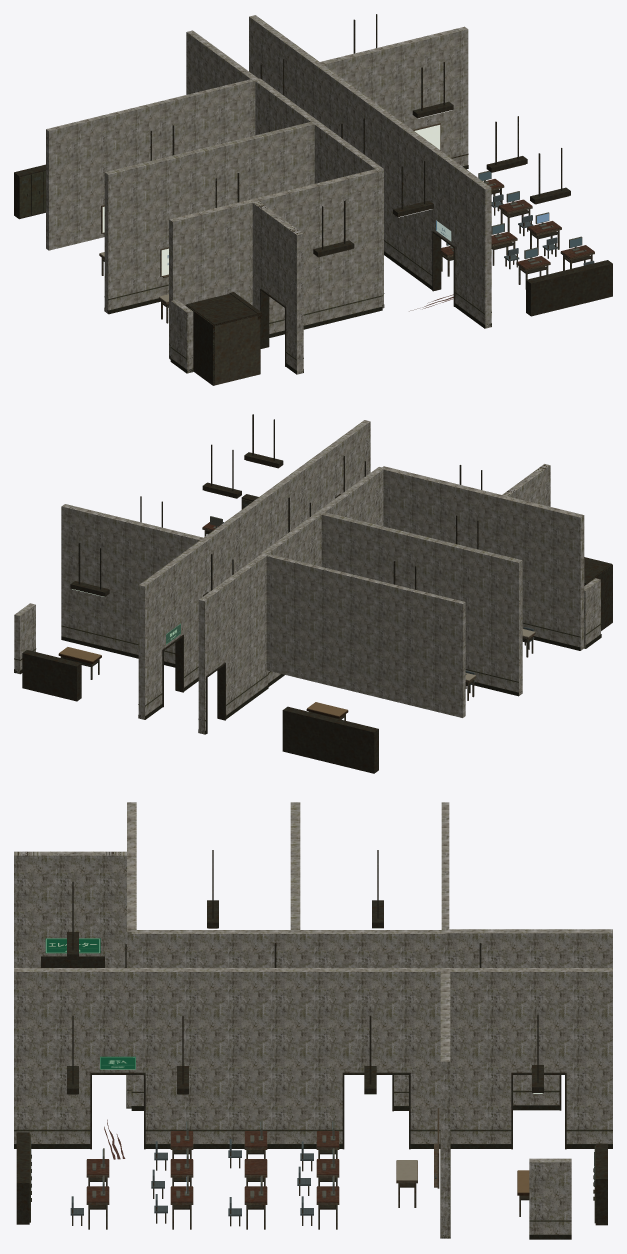
File: school_floor3_layout.glb
3 views of the same model, one above another, from view 1: azimuth 30°, elevation 25°; view 2: azimuth 150°, elevation 25°; view 3: azimuth 270°, elevation 25° (orthographic). The views are drawn at different scales.
Visible parts, largest first — view 1: Wall z 7.25 -12.28 / Plaster, Wall z 0.7 -12.28 / Plaster, Wall z -5.3 -12.28 / Plaster, Wall z -5.3 3.6 / Plaster, Wall x 3.6 -1.19 / Plaster, Wall x 3.6 8.91 / Plaster, Details 1 1 / Frame, Details -2 1 / Frame, Details -2 1 / Steel, Wall x -7.42 10.875 / Plaster, Wall x 3.6 -7.94 / Plaster, Wall x -7.42 8.325 / Plaster (+22 smaller); view 2: Wall z -5.3 -12.28 / Plaster, Wall z 7.25 -12.28 / Plaster, Wall z 0.7 -12.28 / Plaster, Wall z -5.3 3.6 / Plaster, Wall x -0.08 -9.87 / Plaster, Details -1 -2 / Frame, Wall x 3.6 -1.19 / Plaster, Wall x 3.6 -7.94 / Plaster, Wall x 3.6 -12 / Plaster, Details 1 -2 / Frame, Wall x 3.6 -10.14 / Plaster, Wall x 3.6 8.91 / Plaster (+14 smaller); view 3: Wall x 3.6 -1.19 / Plaster, Wall x 3.6 -7.94 / Plaster, Wall x 3.6 8.91 / Plaster, Wall x 3.6 -12 / Plaster, Wall x 3.6 -3.91 / Plaster, Wall x -7.42 8.325 / Plaster, Wall x 3.6 -10.14 / Plaster, Wall x -0.08 -9.87 / Plaster, Wall x 3.6 6.69 / Plaster, Wall x 0 -1.085 / Plaster, Wall x 12.19 -10.34 / Plaster, Wall x -7.42 10.875 / Plaster (+26 smaller).
Part boxes in pixels (<box>): Wall z 7.25 -12.28 / Plaster: <box>169,168,382,359</box>; Wall z 0.7 -12.28 / Plaster: <box>104,122,314,313</box>; Wall z -5.3 -12.28 / Plaster: <box>46,79,256,250</box>; Wall z -5.3 3.6 / Plaster: <box>318,26,468,166</box>; Wall x 3.6 -1.19 / Plaster: <box>355,93,439,285</box>; Wall x 3.6 8.91 / Plaster: <box>455,166,491,328</box>; Details 1 1 / Frame: <box>519,148,612,316</box>; Details -2 1 / Frame: <box>185,292,261,385</box>; Details -2 1 / Steel: <box>215,315,260,385</box>; Wall x -7.42 10.875 / Plaster: <box>286,226,303,374</box>; Wall x 3.6 -7.94 / Plaster: <box>289,44,334,128</box>; Wall x -7.42 8.325 / Plaster: <box>261,207,292,306</box>; Wall z -5.3 -12.28 / Plaster: <box>262,553,465,717</box>; Wall z 7.25 -12.28 / Plaster: <box>382,466,584,650</box>; Wall z 0.7 -12.28 / Plaster: <box>319,512,522,695</box>; Wall z -5.3 3.6 / Plaster: <box>61,504,203,663</box>; Wall x -0.08 -9.87 / Plaster: <box>219,553,267,715</box>; Details -1 -2 / Frame: <box>206,662,378,773</box>; Wall x 3.6 -1.19 / Plaster: <box>241,456,320,564</box>; Wall x 3.6 -7.94 / Plaster: <box>177,529,221,687</box>; Wall x 3.6 -12 / Plaster: <box>138,572,162,719</box>; Details 1 -2 / Frame: <box>22,543,109,701</box>; Wall x 3.6 -10.14 / Plaster: <box>156,557,183,649</box>; Wall x 3.6 8.91 / Plaster: <box>336,420,370,493</box>; Wall x 3.6 -1.19 / Plaster: <box>145,968,342,1143</box>; Wall x 3.6 -7.94 / Plaster: <box>410,968,511,1143</box>; Wall x 3.6 8.91 / Plaster: <box>14,968,90,1143</box>; Wall x 3.6 -12 / Plaster: <box>566,968,612,1143</box>; Wall x 3.6 -3.91 / Plaster: <box>342,968,410,1072</box>; Wall x -7.42 8.325 / Plaster: <box>41,851,104,956</box>; Wall x 3.6 -10.14 / Plaster: <box>511,968,566,1072</box>; Wall x -0.08 -9.87 / Plaster: <box>445,929,559,1105</box>; Wall x 3.6 6.69 / Plaster: <box>90,968,145,1072</box>; Wall x 0 -1.085 / Plaster: <box>250,930,339,967</box>; Wall x 12.19 -10.34 / Plaster: <box>529,1158,571,1234</box>; Wall x -7.42 10.875 / Plaster: <box>14,851,40,967</box>.
Size of the model in its own units: 24.78 by 7.8 by 23.96.
21 materials, 15 textured.
